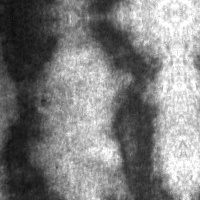patches: (97, 78, 177, 199), (0, 91, 59, 199), (90, 15, 155, 93), (0, 20, 62, 86)
